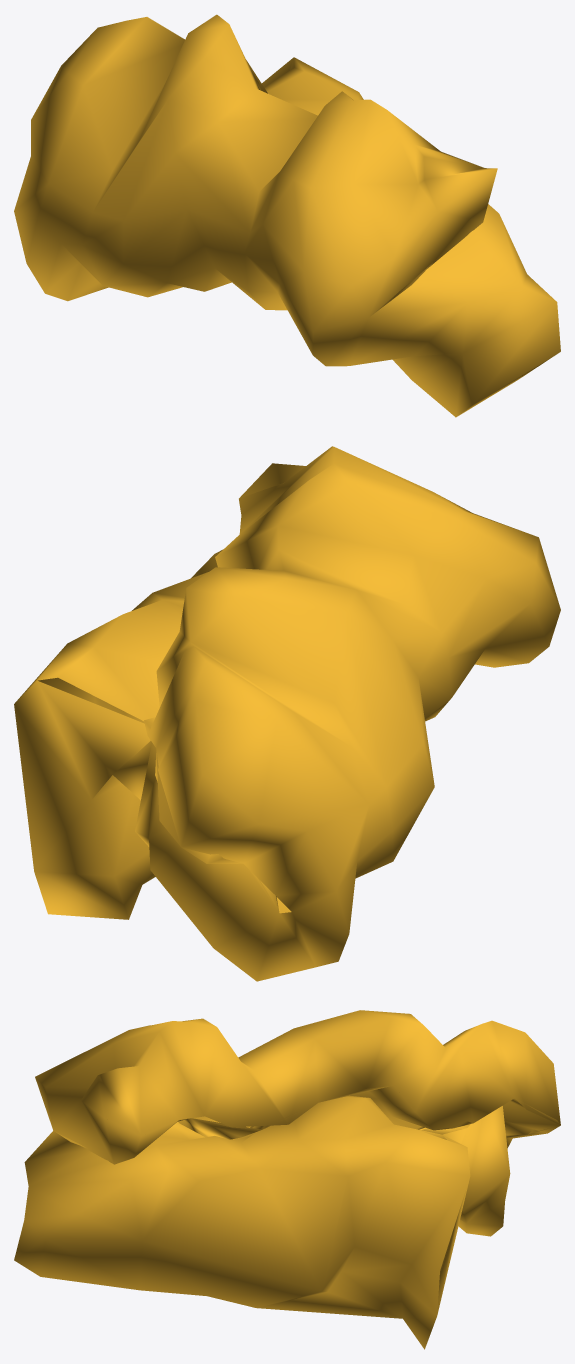
Rendered from nervoso-cingulate-gyrus-and-sulcus-middle-posterior-part-r.glb.
The picture shows the model from 3 angles, top to bottom: view 1: azimuth 30°, elevation 25°; view 2: azimuth 150°, elevation 25°; view 3: azimuth 270°, elevation 25°; orthographic projection. The views are drawn at different scales.
Visible parts, largest first — view 1: Cingulate gyrus and sulcus (Middle posterior part).r; view 2: Cingulate gyrus and sulcus (Middle posterior part).r; view 3: Cingulate gyrus and sulcus (Middle posterior part).r.
Part boxes in pixels (x1,y1,x2,y2): Cingulate gyrus and sulcus (Middle posterior part).r: (14,14,560,417); Cingulate gyrus and sulcus (Middle posterior part).r: (14,446,560,981); Cingulate gyrus and sulcus (Middle posterior part).r: (14,1010,560,1349).
Size of the model in its own units: 0.0181 by 0.019 by 0.033.
